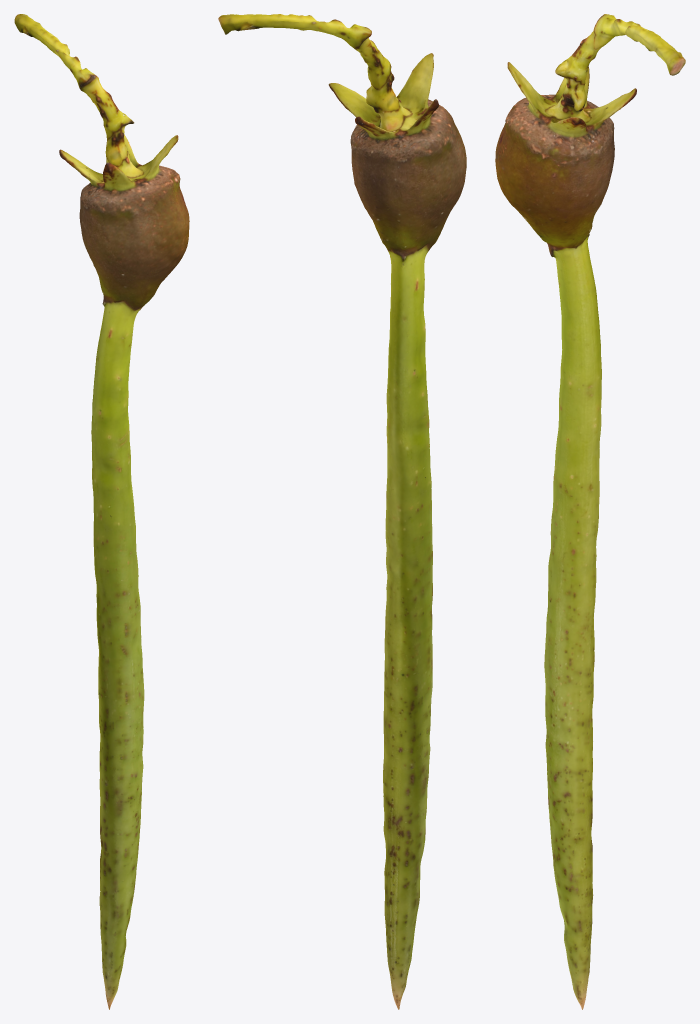
File: Mangroove.glb
The picture shows the model from 3 angles, left to right: view 1: azimuth 90°, elevation 25°; view 2: azimuth 150°, elevation 25°; view 3: azimuth 270°, elevation 25°; orthographic projection. The views are drawn at different scales.
Visible parts, largest first — view 1: ISG110-W03-1-1-tane1_1; view 2: ISG110-W03-1-1-tane1_1; view 3: ISG110-W03-1-1-tane1_1.
Part boxes in pixels (x1,y1,x2,y2): ISG110-W03-1-1-tane1_1: [14, 14, 189, 1009]; ISG110-W03-1-1-tane1_1: [218, 14, 466, 1009]; ISG110-W03-1-1-tane1_1: [495, 14, 685, 1009].
Size of the model in its own units: 0.3951 by 2.09 by 0.3523.
1 material, 1 textured.
